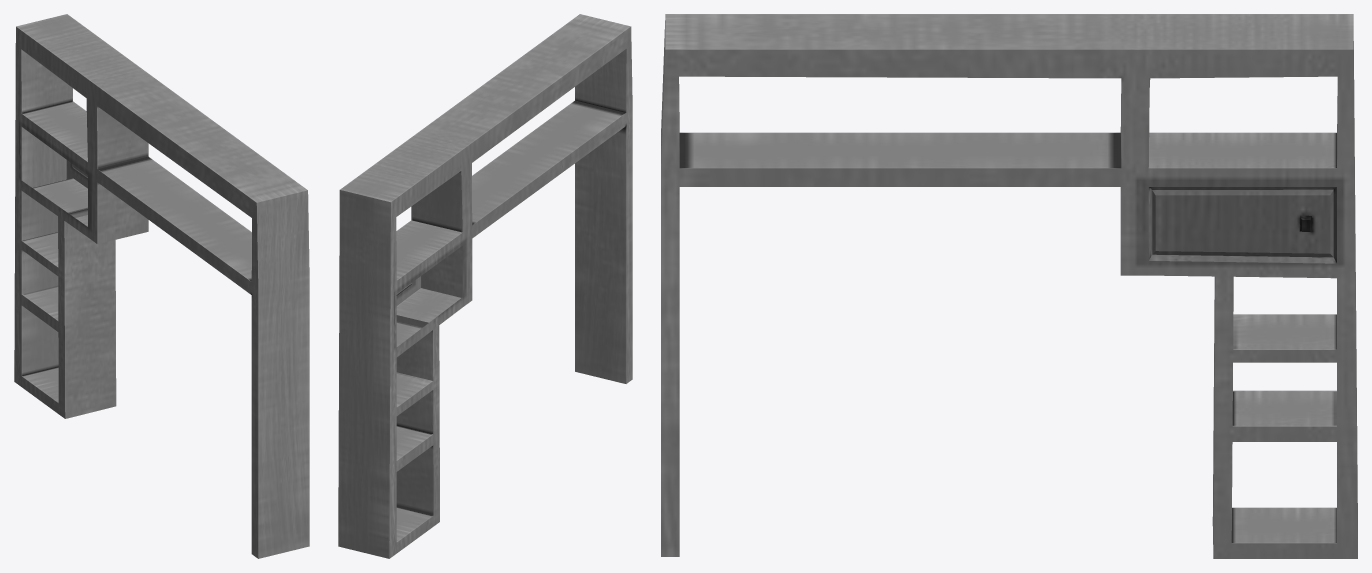
Rendered from mobile camera.FBX.
The picture shows the model from 3 angles, left to right: view 1: azimuth 30°, elevation 25°; view 2: azimuth 150°, elevation 25°; view 3: azimuth 270°, elevation 25°; orthographic projection. The views are drawn at different scales.
Visible parts, largest first — view 1: sovra scrivania; view 2: sovra scrivania; view 3: sovra scrivania.
Boxes of the visible parts, x1=… form: sovra scrivania: x1=14, y1=14, x2=309, y2=558; sovra scrivania: x1=338, y1=14, x2=632, y2=558; sovra scrivania: x1=661, y1=14, x2=1357, y2=558.
Size of the model in its own units: 0.2936 by 1.89 by 2.35.
